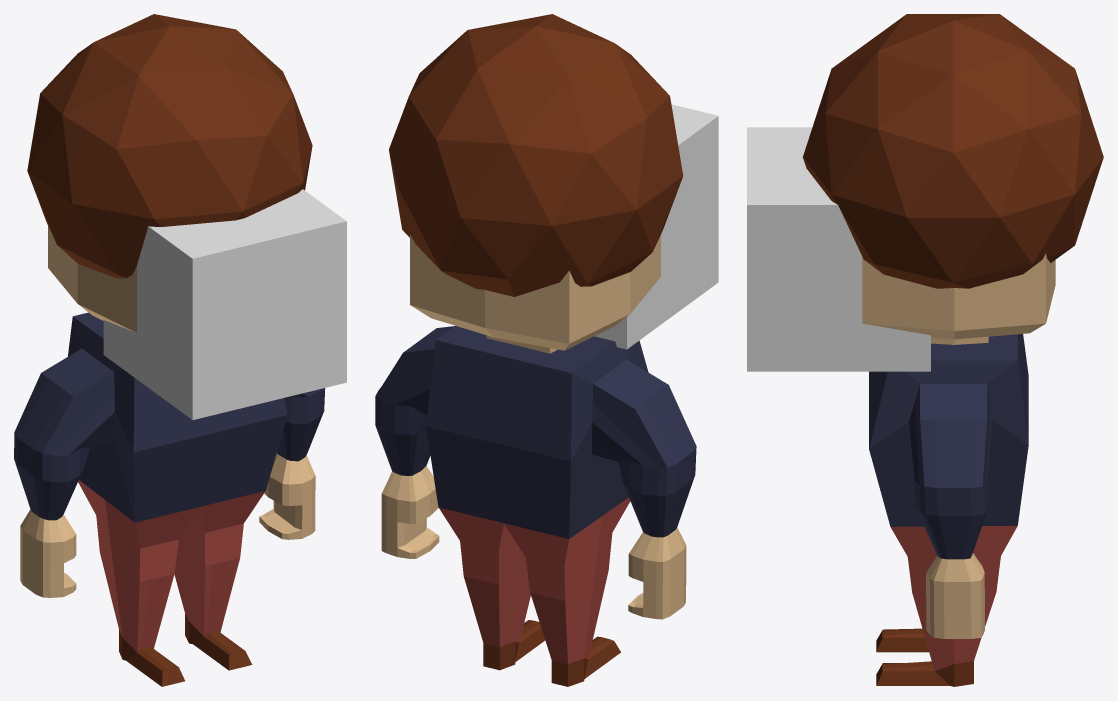
Rendered from character.fbx.
3 renders of one model, left to right at view 1: azimuth 30°, elevation 25°; view 2: azimuth 150°, elevation 25°; view 3: azimuth 270°, elevation 25°, orthographic. The views are drawn at different scales.
Visible parts, largest first — view 1: Kostka.001, Kula ico, Kostka.002, Kostka; view 2: Kostka.001, Kula ico, Kostka, Kostka.002; view 3: Kula ico, Kostka.001, Kostka.002, Kostka.
Boxes of the visible parts, bbox=[...] form: Kostka.001: bbox=[14, 312, 325, 686]; Kula ico: bbox=[27, 14, 312, 278]; Kostka.002: bbox=[103, 189, 346, 419]; Kostka: bbox=[48, 226, 136, 332]; Kostka.001: bbox=[375, 326, 696, 686]; Kula ico: bbox=[389, 14, 683, 296]; Kostka: bbox=[410, 234, 660, 353]; Kostka.002: bbox=[594, 104, 718, 349]; Kula ico: bbox=[803, 14, 1103, 288]; Kostka.001: bbox=[869, 334, 1028, 686]; Kostka.002: bbox=[747, 127, 930, 371]; Kostka: bbox=[862, 253, 1055, 344].
Size of the model in its own units: 375 by 772 by 388.
